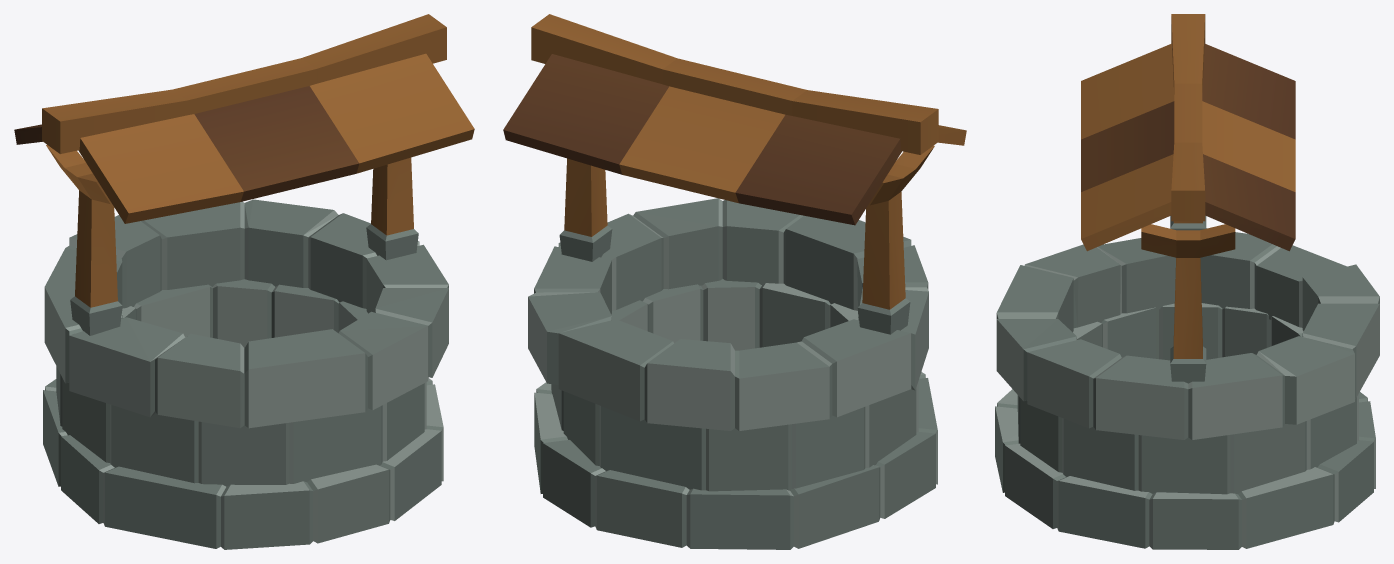
Rendered from Well_01.fbx.
3 views of the same model, side by side, from view 1: azimuth 30°, elevation 25°; view 2: azimuth 150°, elevation 25°; view 3: azimuth 270°, elevation 25° (orthographic). The views are drawn at different scales.
Parts seen in each view (by area): view 1: Well_01.002, Well Roof, Well_01.001, Well_01, Well Roof.001, Well Roof.002; view 2: Well_01.002, Well Roof, Well_01.001, Well_01, Well Roof.001, Well Roof.002; view 3: Well_01.002, Well Roof, Well_01.001, Well_01, Well Roof.002, Well Roof.001.
Boxes of the visible parts, bbox=[...] form: Well_01.002: bbox=[44, 199, 448, 428]; Well Roof: bbox=[14, 53, 474, 223]; Well_01.001: bbox=[56, 279, 426, 486]; Well_01: bbox=[43, 378, 443, 549]; Well Roof.001: bbox=[42, 14, 446, 153]; Well Roof.002: bbox=[46, 145, 418, 335]; Well_01.002: bbox=[528, 198, 928, 430]; Well Roof: bbox=[503, 54, 966, 225]; Well_01.001: bbox=[551, 279, 918, 491]; Well_01: bbox=[534, 372, 937, 549]; Well Roof.001: bbox=[531, 14, 938, 154]; Well Roof.002: bbox=[559, 145, 934, 334]; Well_01.002: bbox=[996, 228, 1379, 439]; Well Roof: bbox=[1081, 43, 1295, 251]; Well_01.001: bbox=[1017, 303, 1358, 494]; Well_01: bbox=[995, 389, 1375, 549]; Well Roof.002: bbox=[1141, 215, 1235, 383]; Well Roof.001: bbox=[1171, 14, 1205, 221].
Bounding box in the file's own units: 4.34 × 4.24 × 3.99.
